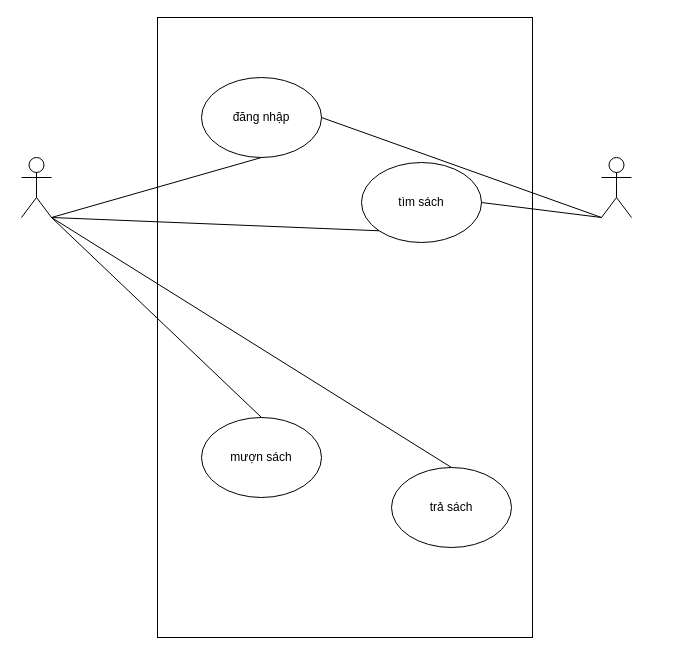
Some shapes in this 683 by 655 pixel diagram are drawn without their labels. Each missing label, with the centre of its shape:
"nhân viên thư viện" belongs at point (616, 187).
"độc giả" belongs at point (36, 187).
